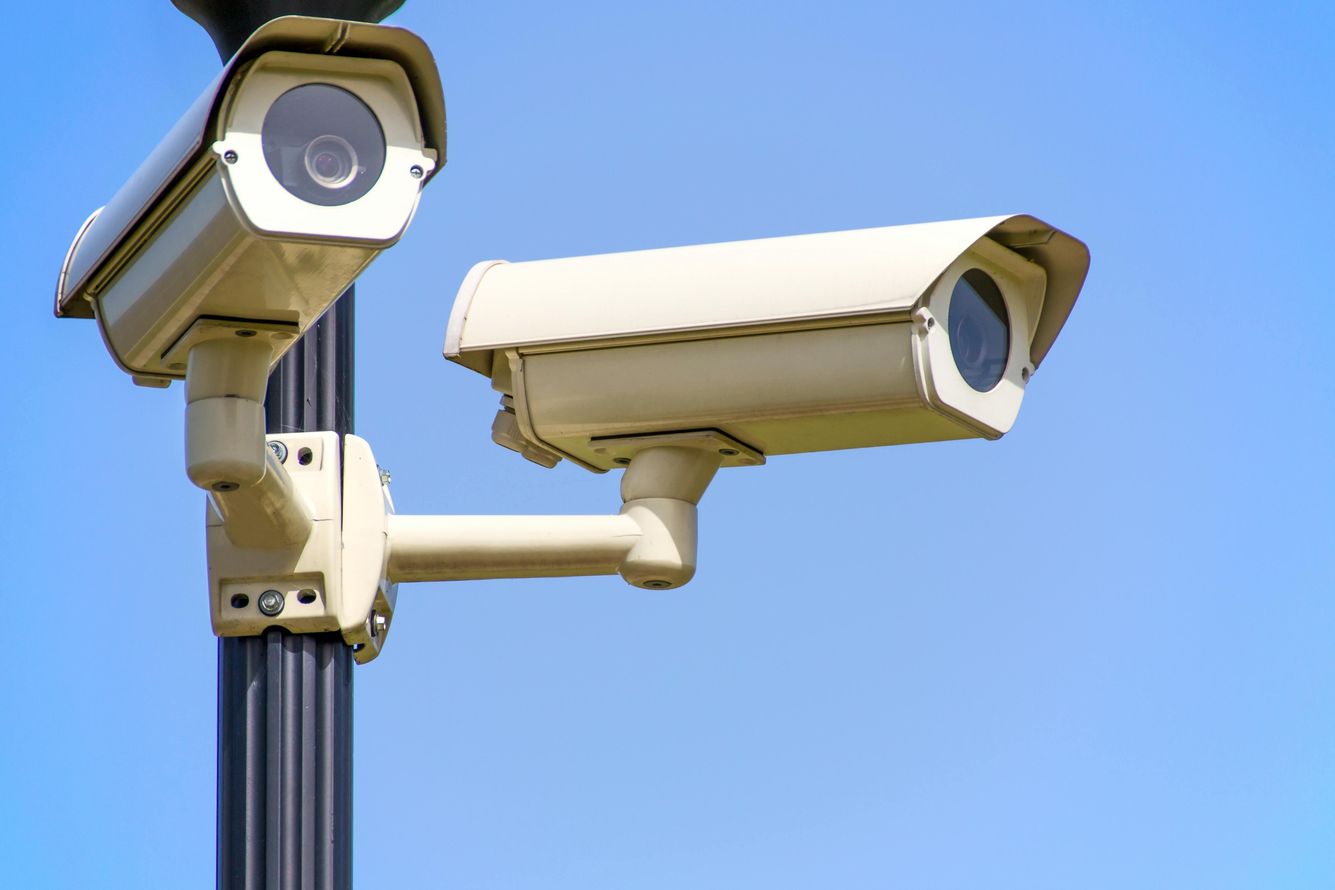camera: (429, 139, 1104, 533), (55, 0, 472, 507)
